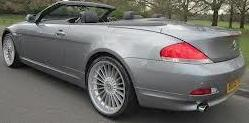back_view: (134, 31, 248, 111)
backlight: (159, 38, 217, 69)
